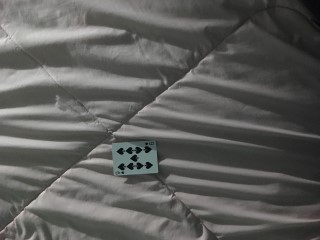NineOfSpades: (112, 140, 158, 176)
